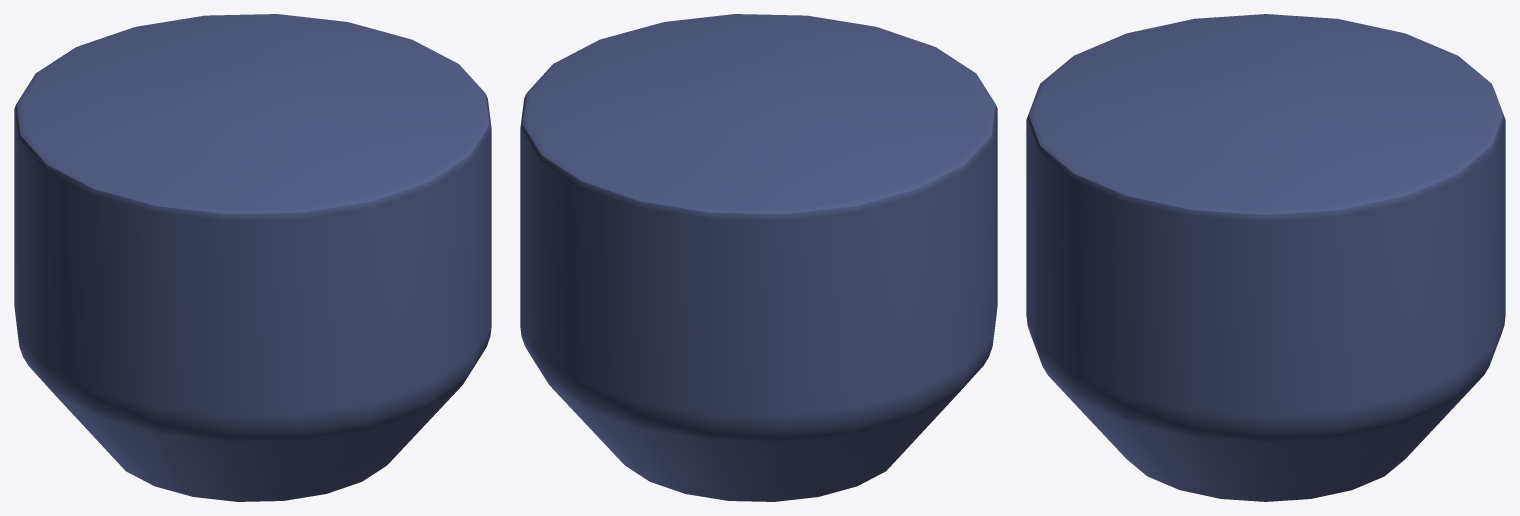
File: RoofWaterTankFBX.fbx
3 renders of one model, left to right at view 1: azimuth 30°, elevation 25°; view 2: azimuth 150°, elevation 25°; view 3: azimuth 270°, elevation 25°, orthographic.
Parts seen in each view (by area): view 1: RoofWaterTankMesh; view 2: RoofWaterTankMesh; view 3: RoofWaterTankMesh.
Boxes of the visible parts, bbox=[...] form: RoofWaterTankMesh: bbox=[14, 14, 491, 501]; RoofWaterTankMesh: bbox=[520, 14, 997, 501]; RoofWaterTankMesh: bbox=[1026, 14, 1505, 501].
Bounding box in the file's own units: 1.27 × 1.03 × 1.27.
